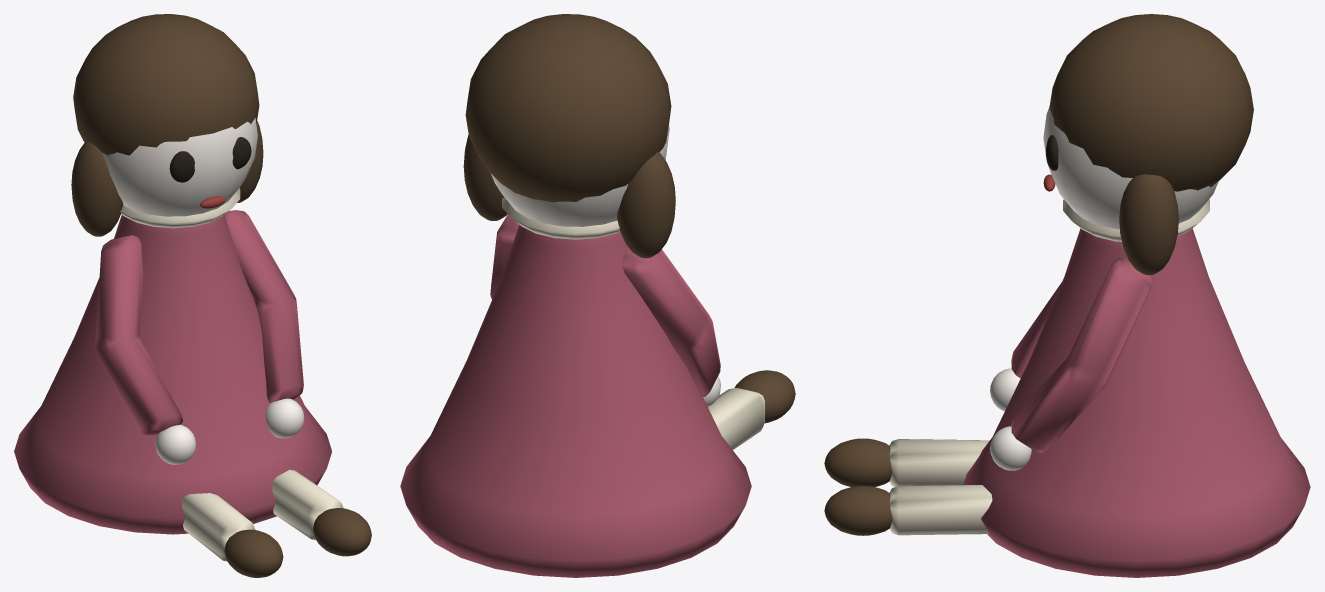
The model's file is doll.glb.
3 renders of one model, left to right at view 1: azimuth 30°, elevation 25°; view 2: azimuth 150°, elevation 25°; view 3: azimuth 270°, elevation 25°, orthographic. The views are drawn at different scales.
Parts seen in each view (by area): view 1: doll_mesh, head_mesh; view 2: doll_mesh, head_mesh; view 3: doll_mesh, head_mesh.
Part boxes in pixels (x1,y1,x2,y2): doll_mesh: [14, 188, 371, 577]; head_mesh: [71, 14, 263, 236]; doll_mesh: [400, 197, 795, 577]; head_mesh: [463, 14, 675, 258]; doll_mesh: [824, 199, 1310, 577]; head_mesh: [1043, 14, 1253, 275].
Bounding box in the file's own units: 0.28 × 0.431 × 0.3912.
